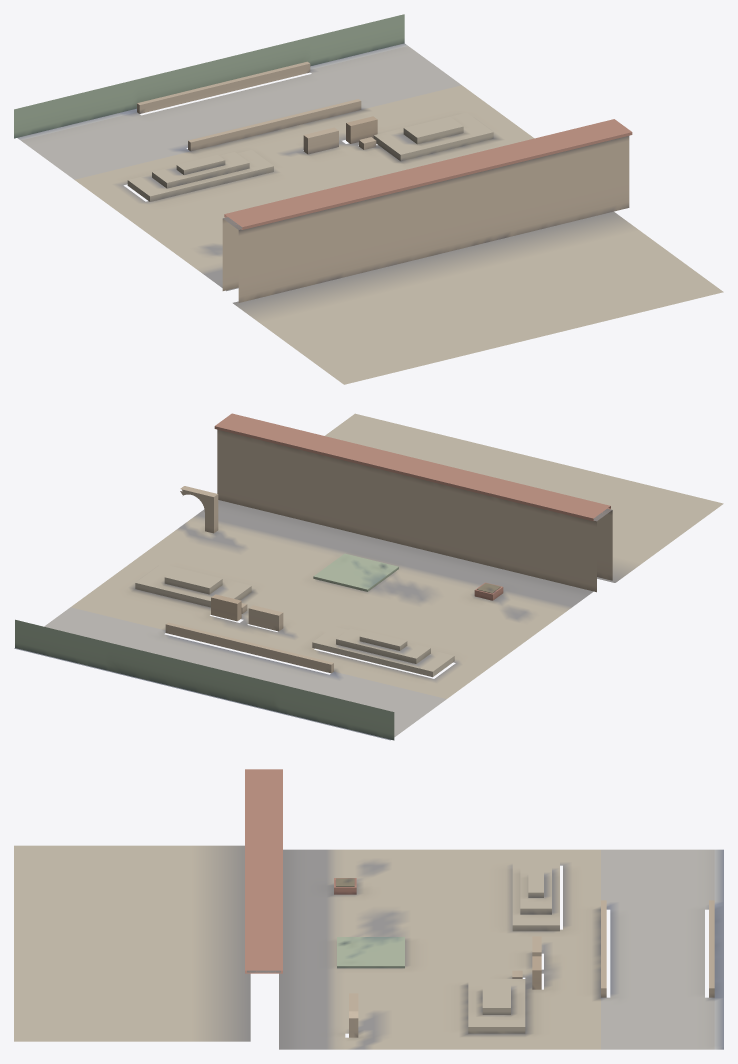
3 renders of one model, top to bottom at view 1: azimuth 30°, elevation 25°; view 2: azimuth 150°, elevation 25°; view 3: azimuth 270°, elevation 25°, orthographic. The views are drawn at different scales.
Visible parts, largest first — view 1: t; view 2: t; view 3: t.
Part boxes in pixels (box(x1,y1,x2,y2)): t: box(14, 14, 723, 384); t: box(14, 413, 723, 740); t: box(14, 769, 723, 1049).
Bounding box in the file's own units: 51.27 × 9.35 × 75.
